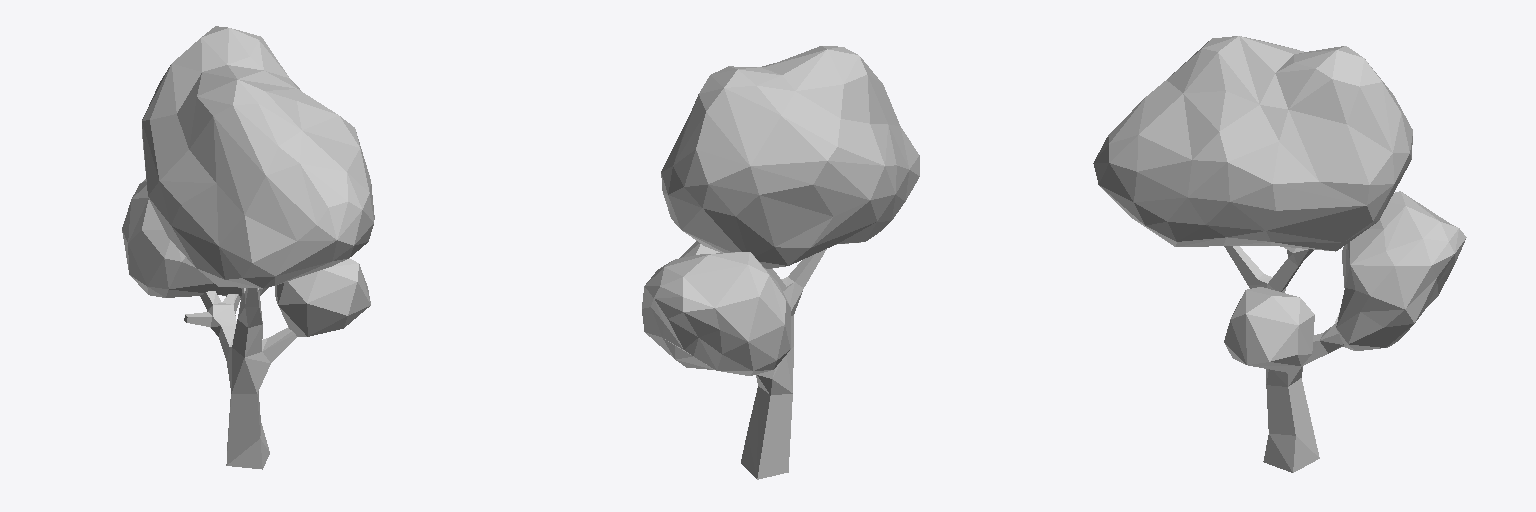
The model's file is ball_tree5.obj.
3 views of the same model, side by side, from view 1: azimuth 30°, elevation 25°; view 2: azimuth 150°, elevation 25°; view 3: azimuth 270°, elevation 25° (orthographic).
Visible parts, largest first — view 1: Tree1_1_Cube.017; view 2: Tree1_1_Cube.017; view 3: Tree1_1_Cube.017.
Part boxes in pixels (x1,y1,x2,y2): Tree1_1_Cube.017: (122, 26, 374, 469); Tree1_1_Cube.017: (642, 46, 919, 479); Tree1_1_Cube.017: (1093, 36, 1466, 472).
Bounding box in the file's own units: 6.73 × 12.47 × 10.19.